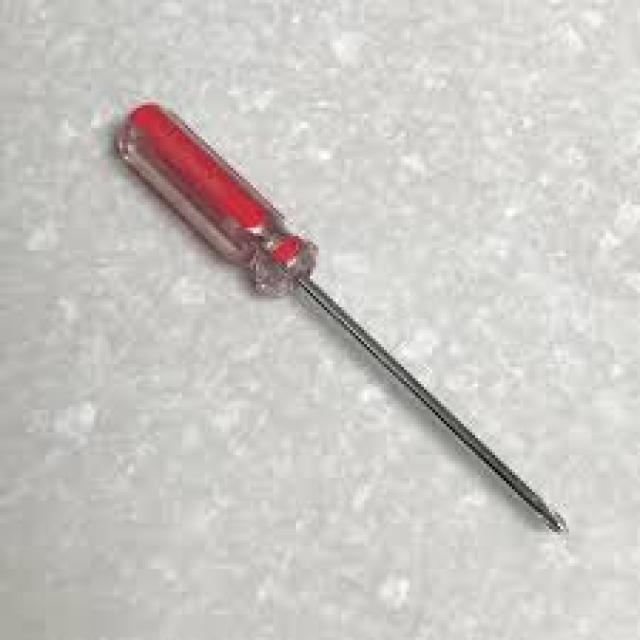screwdriver: (115, 96, 570, 538)
